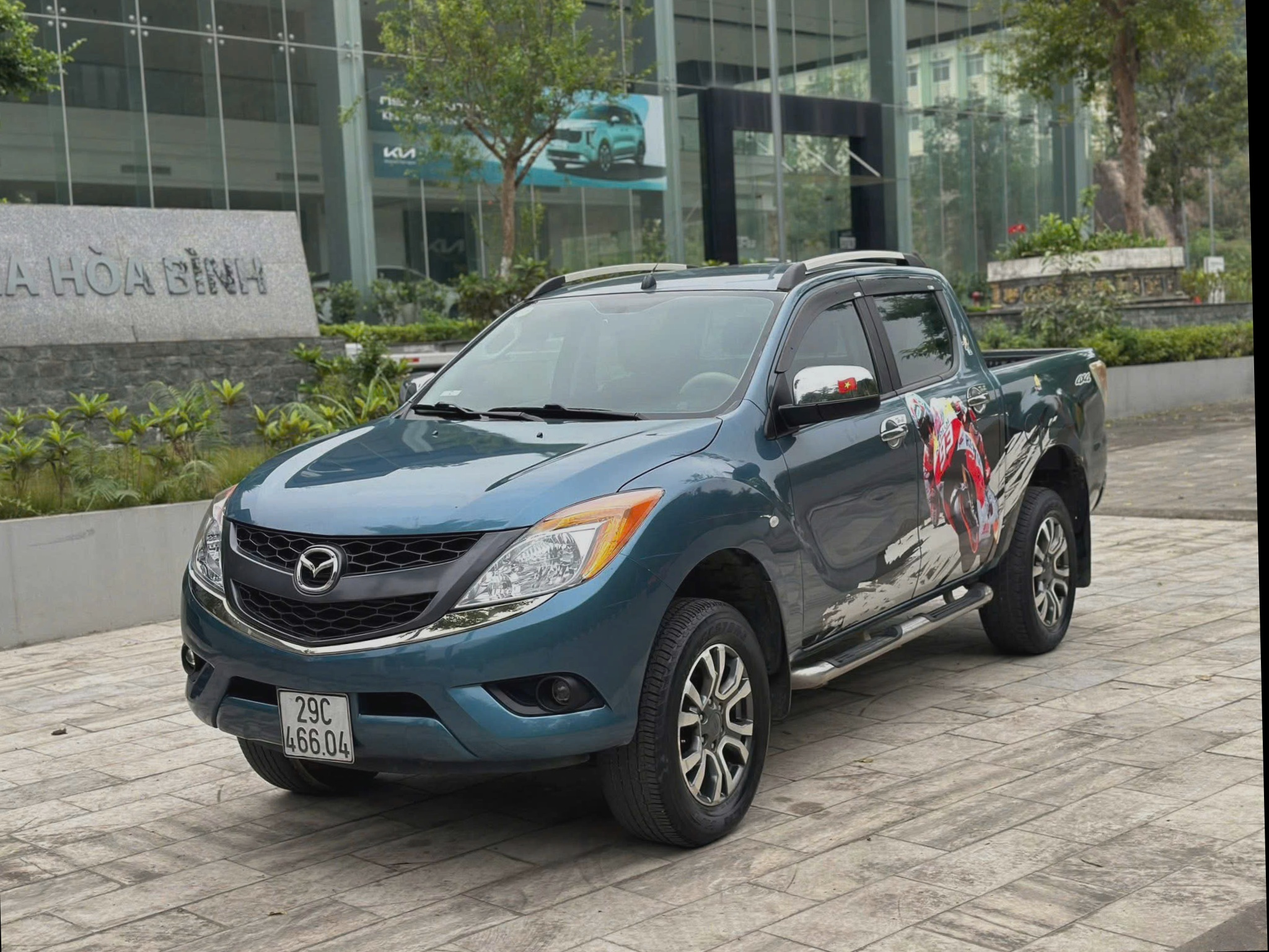Bien-so: (279, 686, 358, 764)
